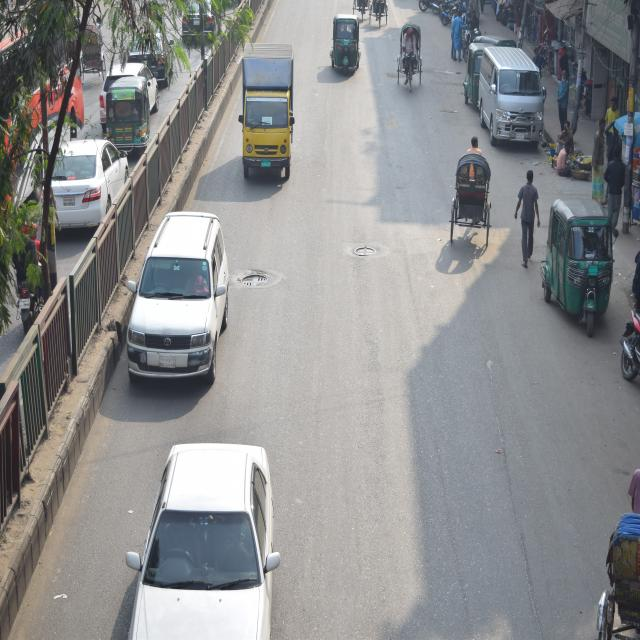car: (125, 448, 272, 640), (127, 208, 225, 379), (50, 139, 131, 224), (128, 22, 170, 74)
microbus: (475, 46, 553, 164)
truck: (238, 30, 308, 194)
